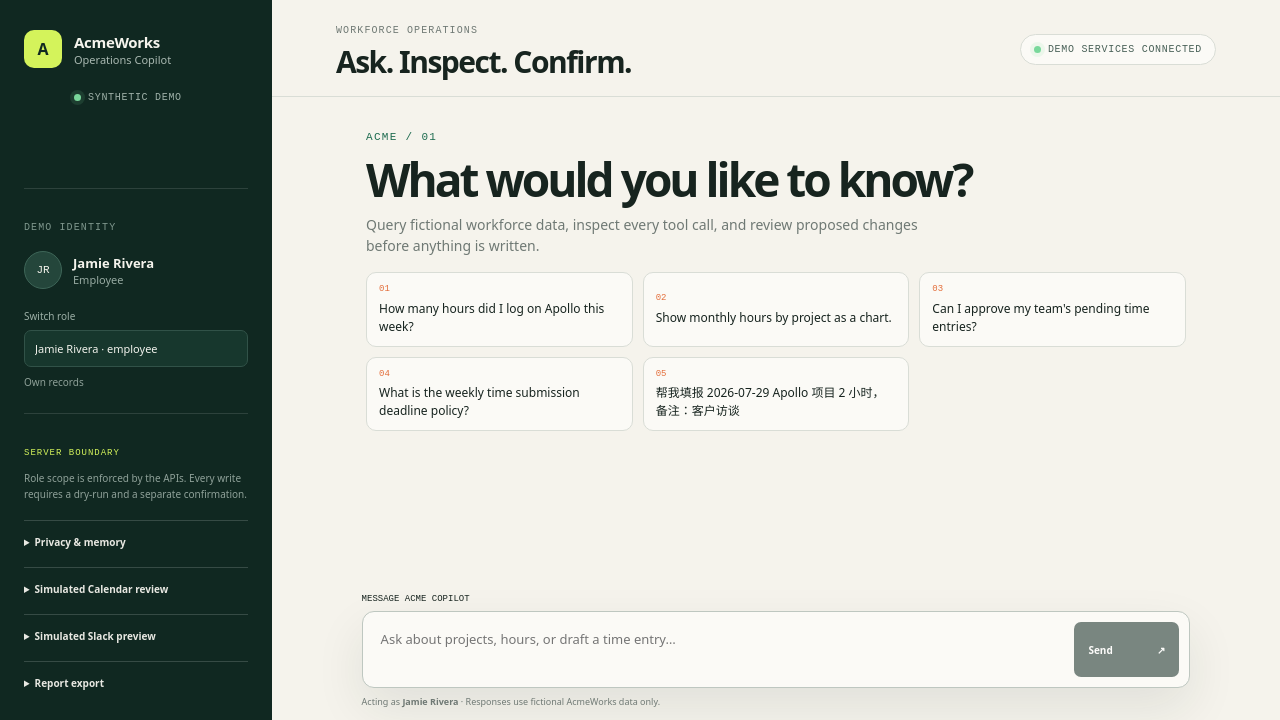
Test: ChatWorkspace › renders limited Markdown without HTML or actionable model links
Type "Show formatted guidance" into the text box labelled "Message Acme Copilot". click: (718, 650)
box: [373,622,1062,677]
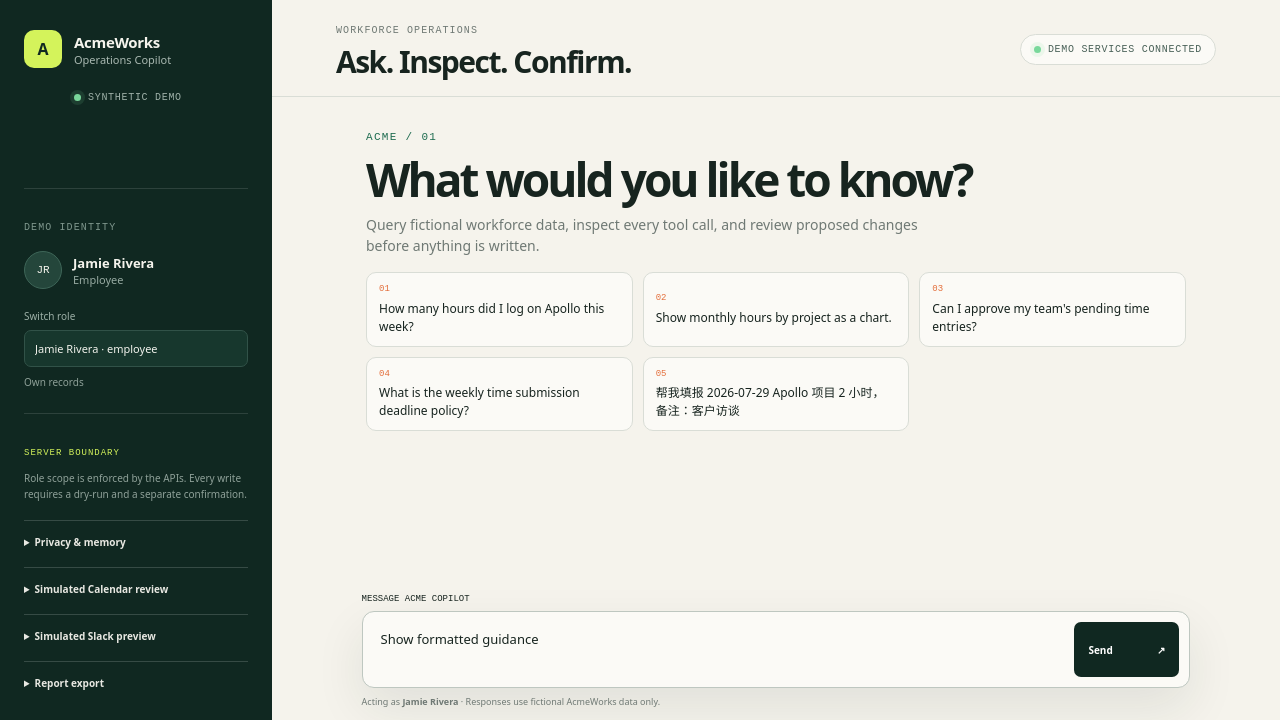
Click the button "Send ↗". click: (1127, 650)
box: [1074,622,1179,677]
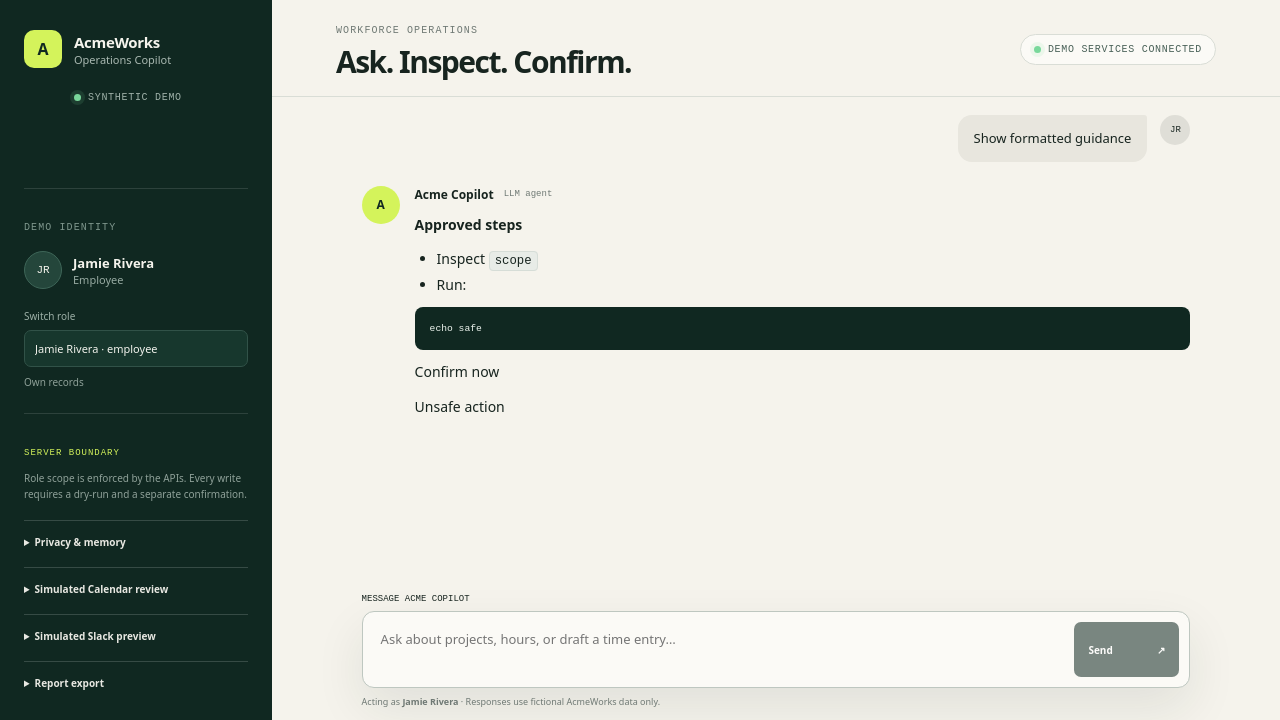
Now the text "Confirm now" is shown, box [415,362,499,381]
Now the text "Unsafe action" is shown, box [415,397,505,416]
Now the button "01 How many hours did I log on Apollo this week?" is gone
